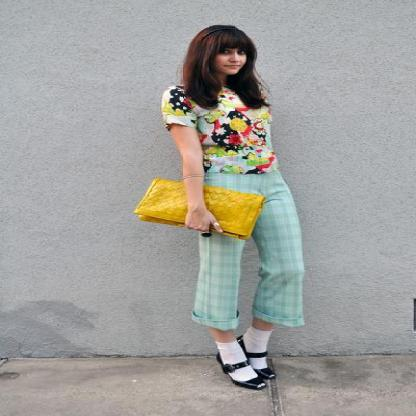bag: (134, 178, 261, 238)
pants: (193, 175, 313, 329)
shirt: (161, 86, 286, 182)
shoe: (212, 336, 275, 389)
